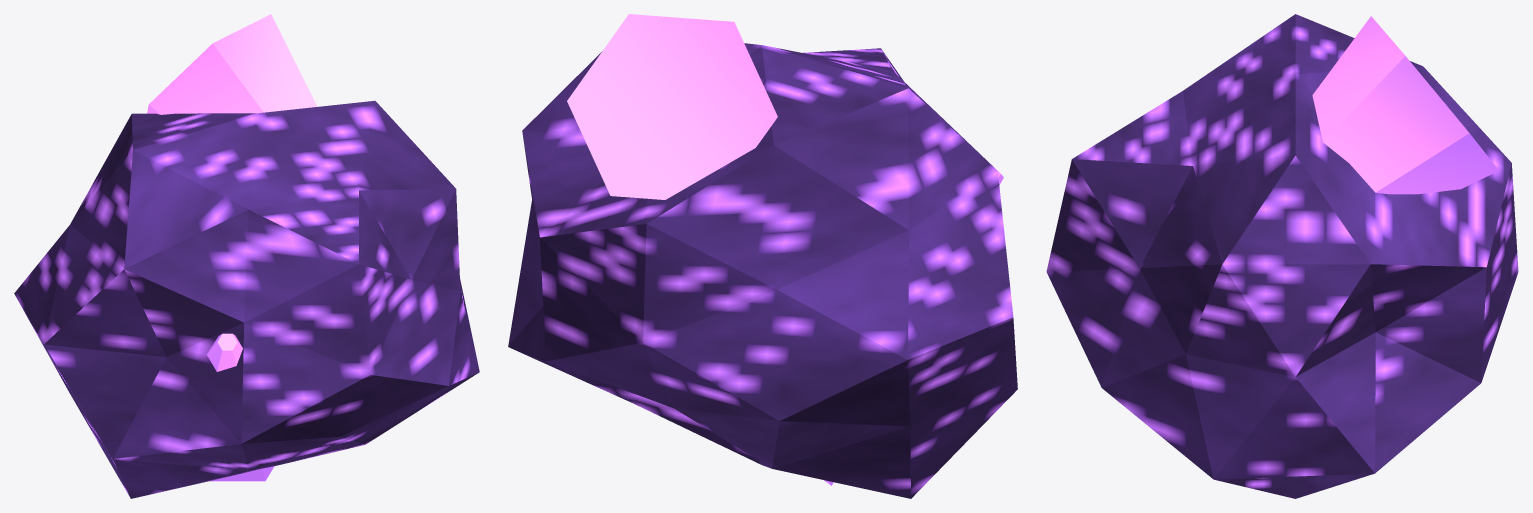
The model's file is chunk_plasma_core.glb.
The picture shows the model from 3 angles, left to right: view 1: azimuth 30°, elevation 25°; view 2: azimuth 150°, elevation 25°; view 3: azimuth 270°, elevation 25°; orthographic projection. The views are drawn at different scales.
Visible parts, largest first — view 1: chunk_plasma_core; view 2: chunk_plasma_core; view 3: chunk_plasma_core.
Part boxes in pixels (x1,y1,x2,y2): chunk_plasma_core: [14, 14, 479, 498]; chunk_plasma_core: [508, 14, 1017, 498]; chunk_plasma_core: [1046, 14, 1518, 498].
Bounding box in the file's own units: 0.9339 × 0.8823 × 0.8453.
1 material, 1 textured.
